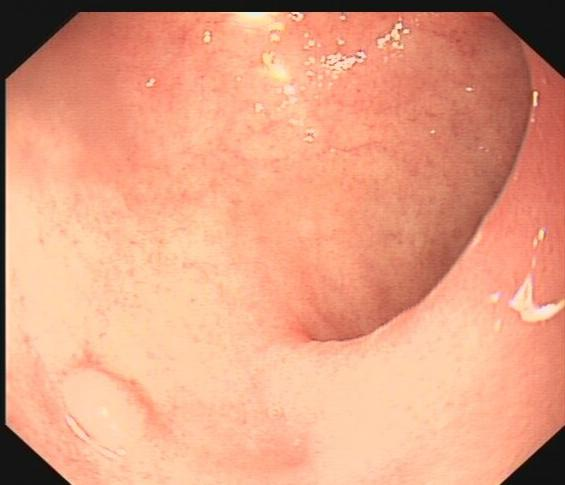Polyp: (57, 357, 155, 449)
